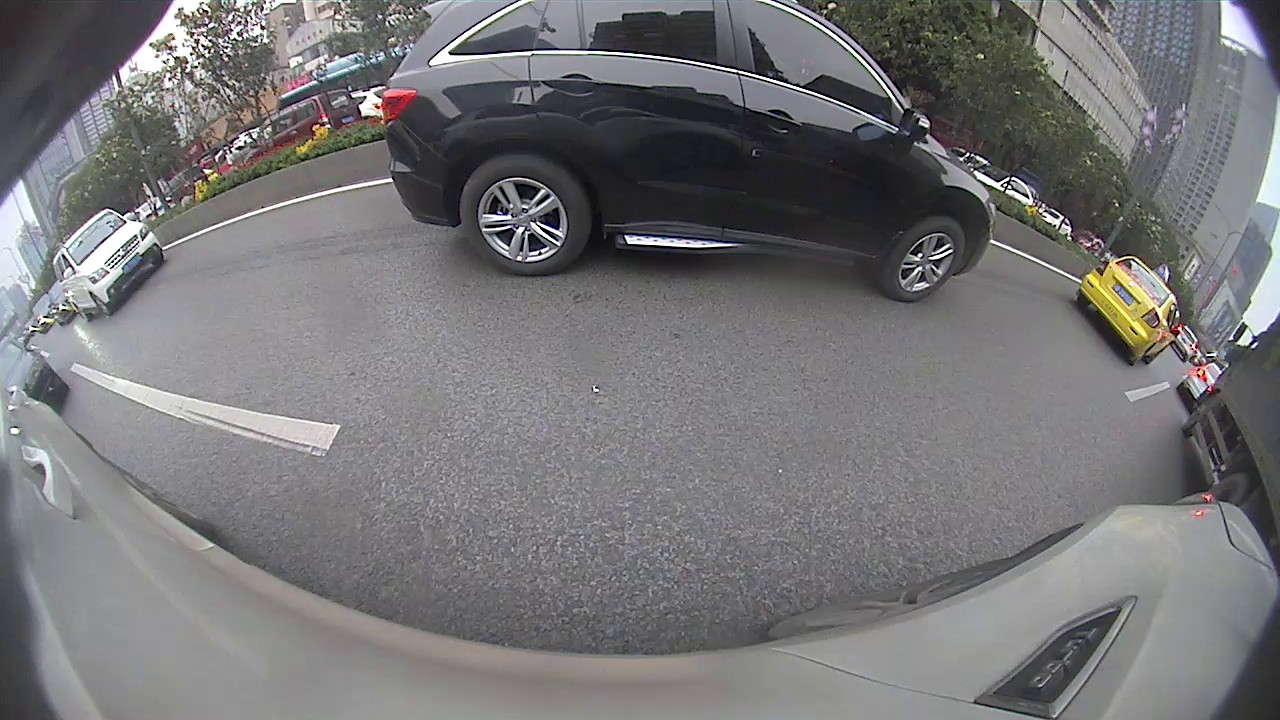car: (379, 0, 993, 303), (1075, 252, 1184, 370), (52, 208, 164, 320), (1172, 324, 1200, 360)
front: (882, 217, 965, 303)
rear: (462, 155, 591, 277)
